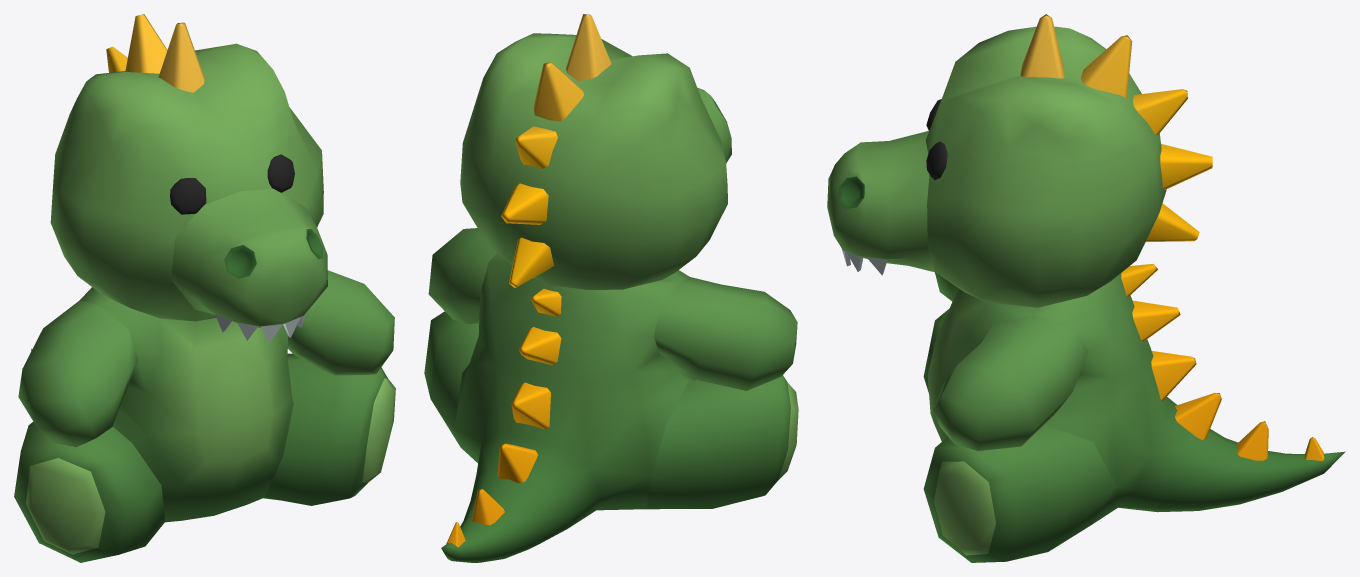
The model's file is Crocodile_01.fbx.
3 views of the same model, side by side, from view 1: azimuth 30°, elevation 25°; view 2: azimuth 150°, elevation 25°; view 3: azimuth 270°, elevation 25° (orthographic). The views are drawn at different scales.
Visible parts, largest first — view 1: Crocodile_01; view 2: Crocodile_01; view 3: Crocodile_01.
Boxes of the visible parts, x1,y1,x2,y2 form: Crocodile_01: (14,14,395,562); Crocodile_01: (424,14,798,562); Crocodile_01: (827,14,1345,562).
Bounding box in the file's own units: 32.81 × 40.52 × 42.29.
